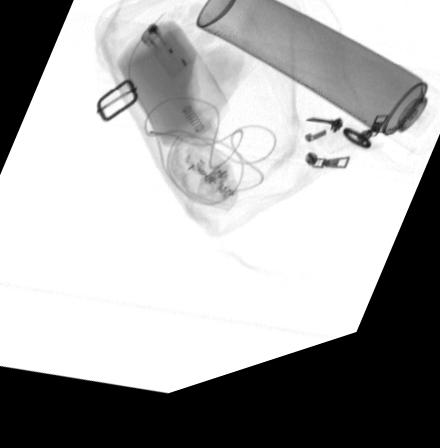Lighter: (138, 31, 189, 91)
Sprayer: (195, 0, 440, 185)
